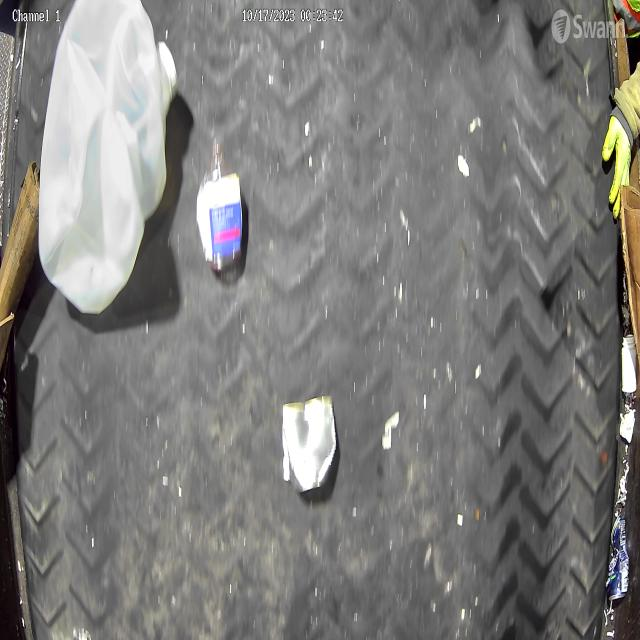can: (281, 392, 338, 497), (606, 514, 630, 602)
milk_jug: (38, 0, 175, 315)
